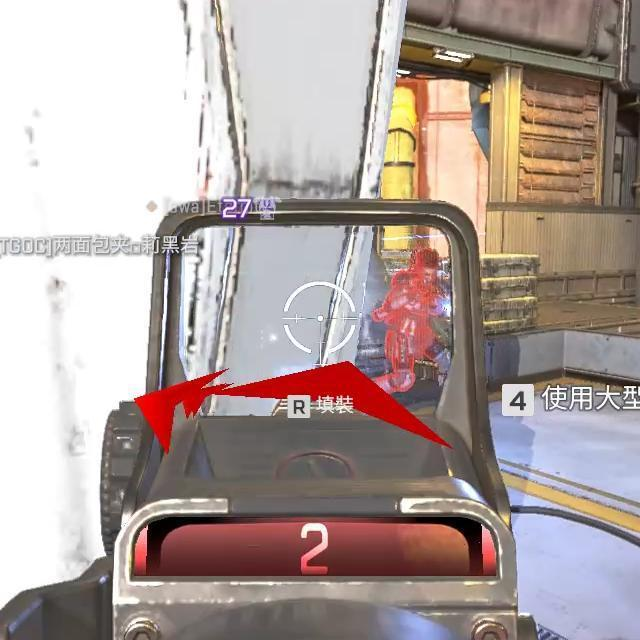avatar: (369, 247, 446, 396)
